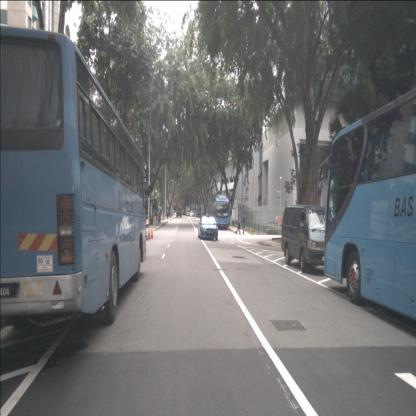cone: (147, 226, 151, 241), (150, 226, 154, 240), (145, 227, 148, 242)
